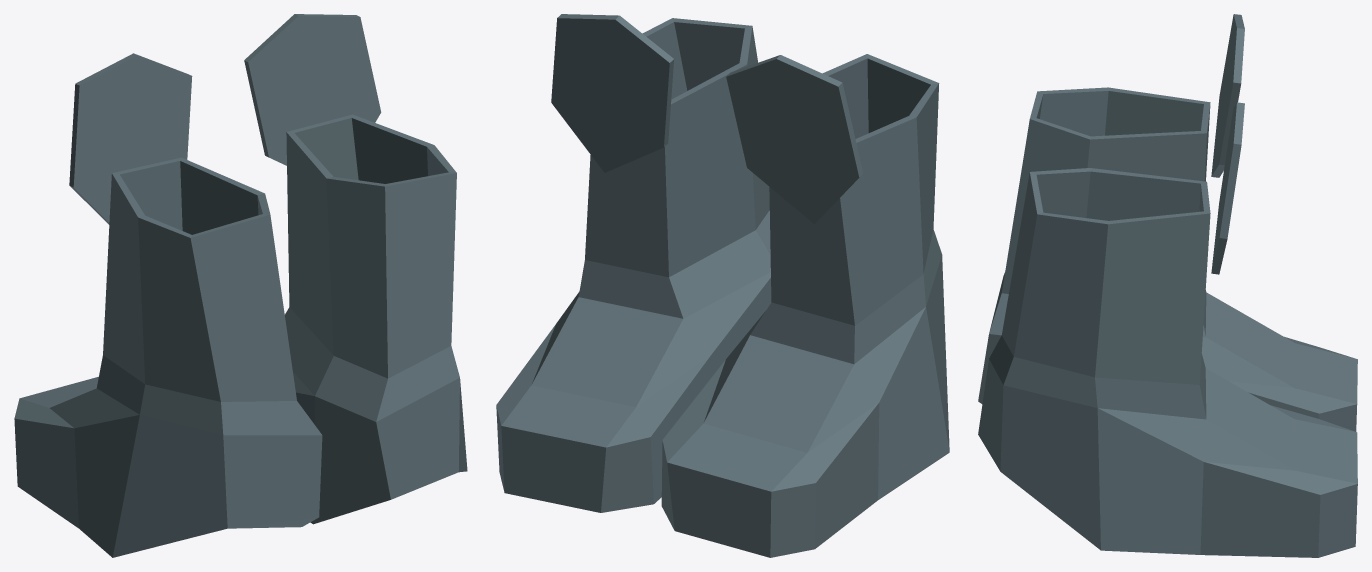
The model's file is Boots.fbx.
3 views of the same model, side by side, from view 1: azimuth 30°, elevation 25°; view 2: azimuth 150°, elevation 25°; view 3: azimuth 270°, elevation 25° (orthographic). The views are drawn at different scales.
Visible parts, largest first — view 1: Boots.001; view 2: Boots.001; view 3: Boots.001.
Boxes of the visible parts, box(x1,y1,x2,y2) form: Boots.001: box(14, 14, 467, 557); Boots.001: box(496, 14, 949, 557); Boots.001: box(978, 14, 1357, 557).
Bounding box in the file's own units: 0.3658 × 0.3584 × 0.4378.
1 material, 1 textured.
